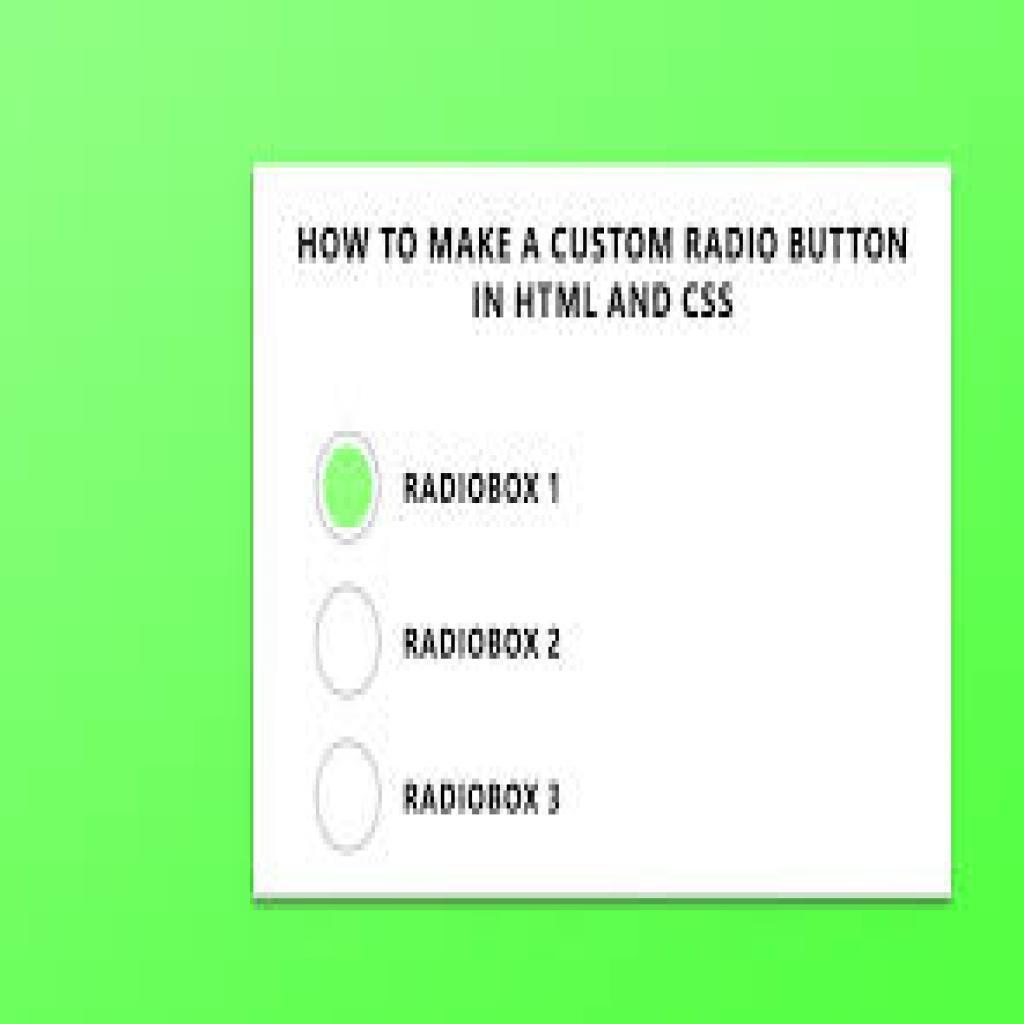label: (395, 461, 568, 512), (401, 775, 571, 822), (400, 621, 568, 668)
radio: (313, 582, 386, 703), (314, 735, 384, 857), (311, 429, 383, 546)
